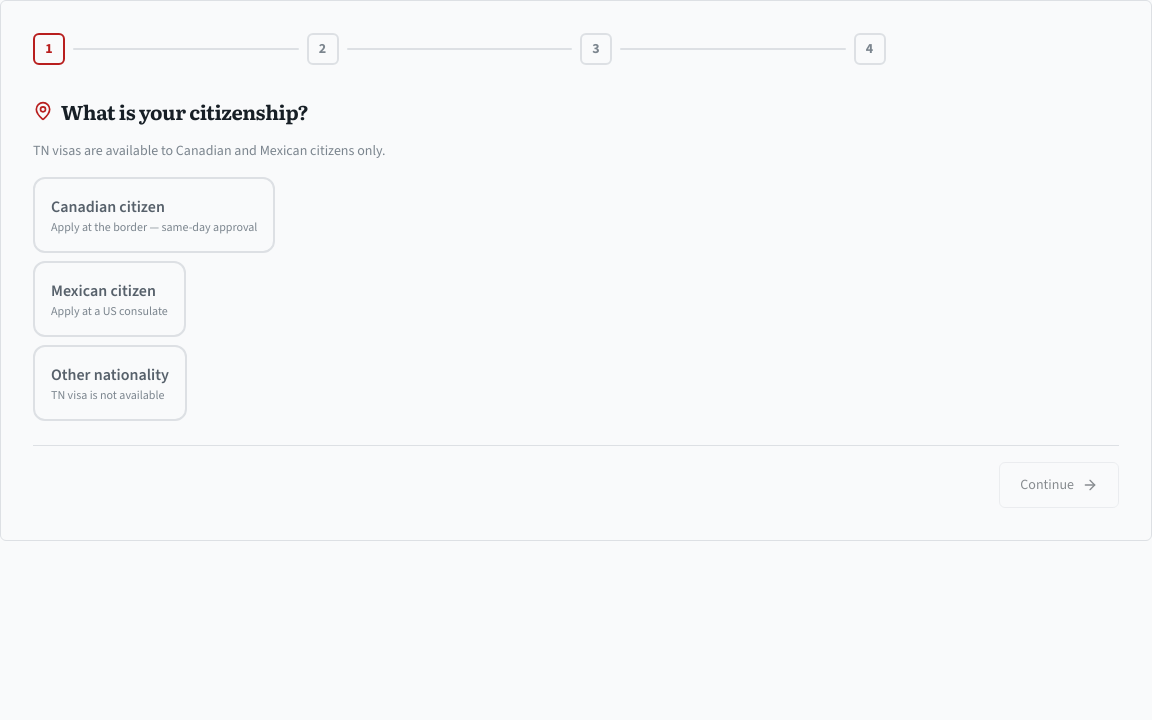
Test: EligibilityChecker › enables Continue after selecting citizenship
Click the text "Canadian citizen": (108, 206) [51,196,165,217]
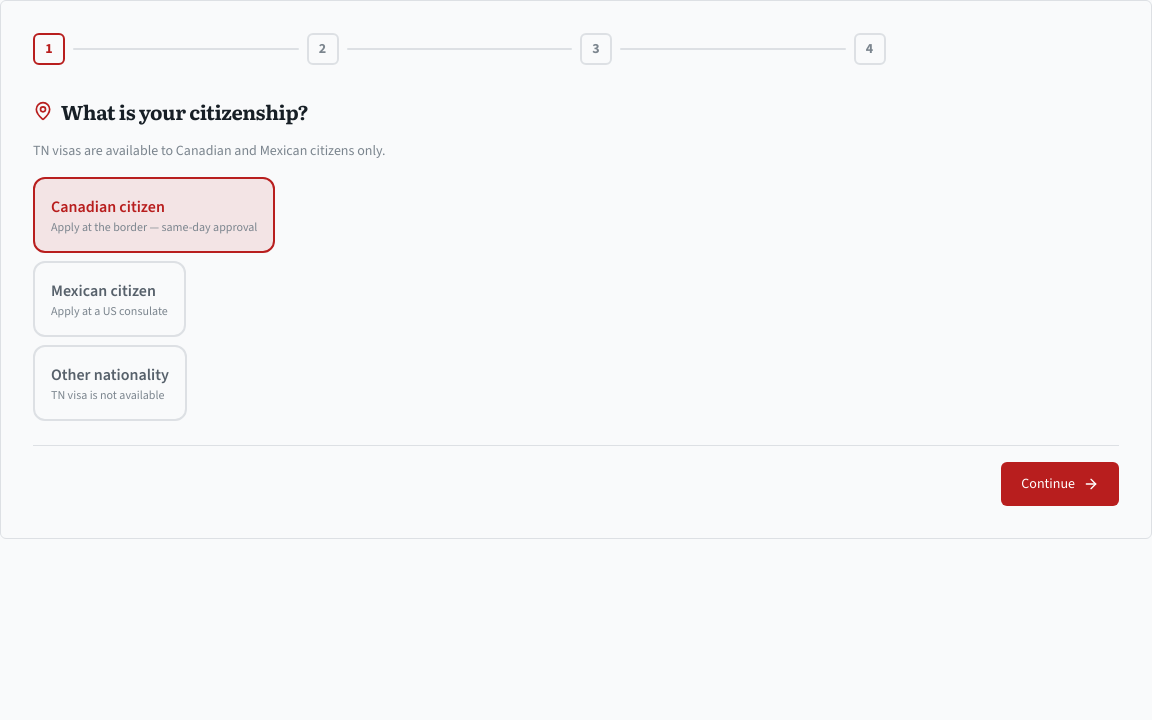
Now the button "Continue" is enabled, box [1001,462,1119,506]
